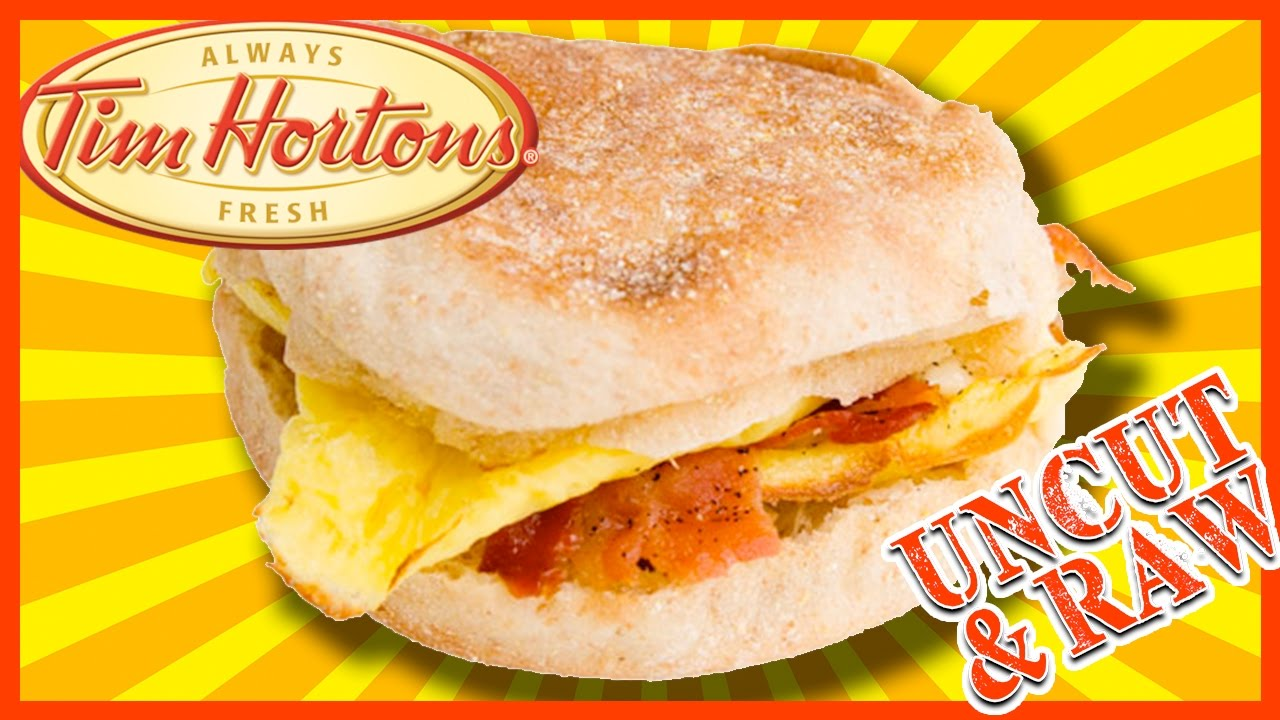bacon: (477, 428, 817, 603)
